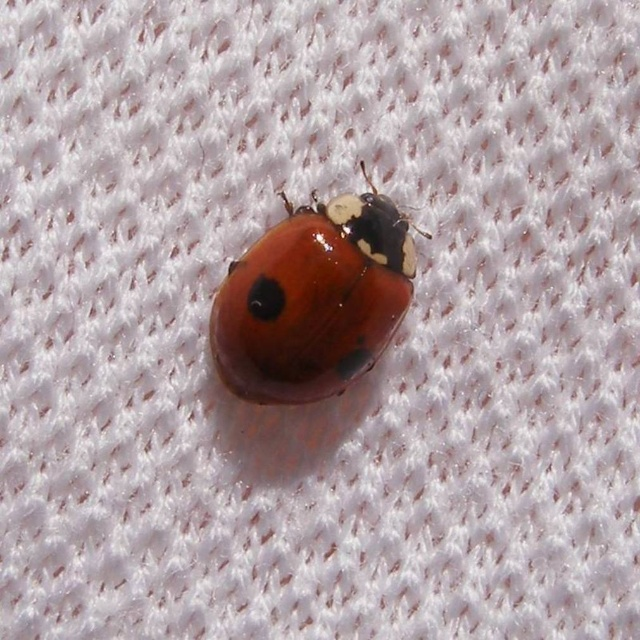Ladybug: (210, 156, 434, 414)
